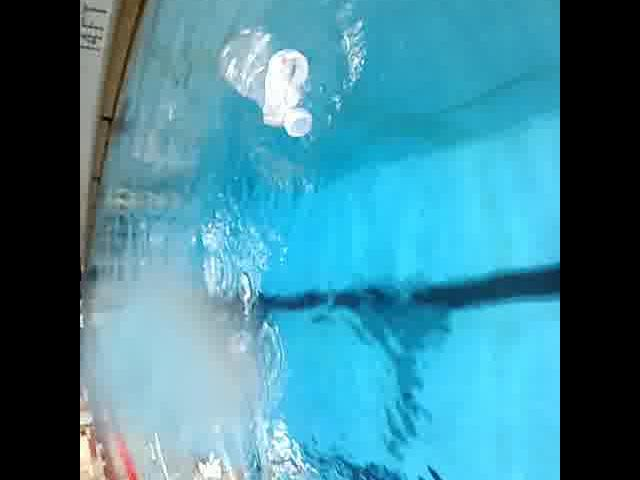Bottle: (210, 20, 320, 154)
